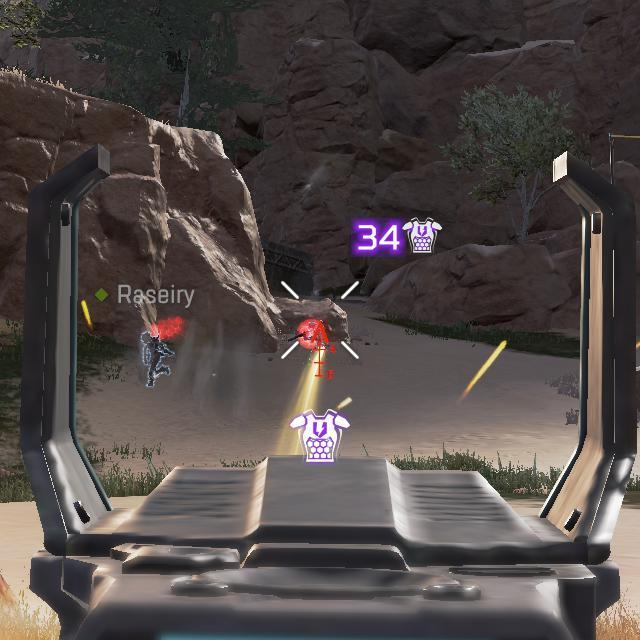avatar: (139, 330, 175, 390)
object: (296, 316, 328, 353)
